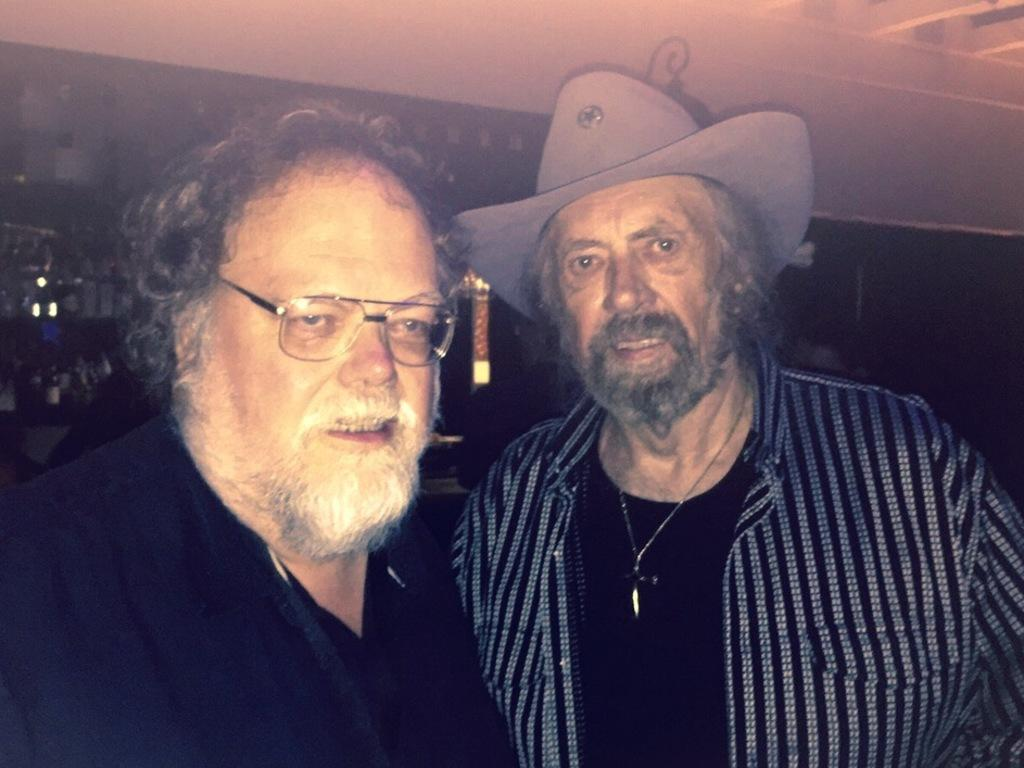Hat: (443, 71, 815, 326)
